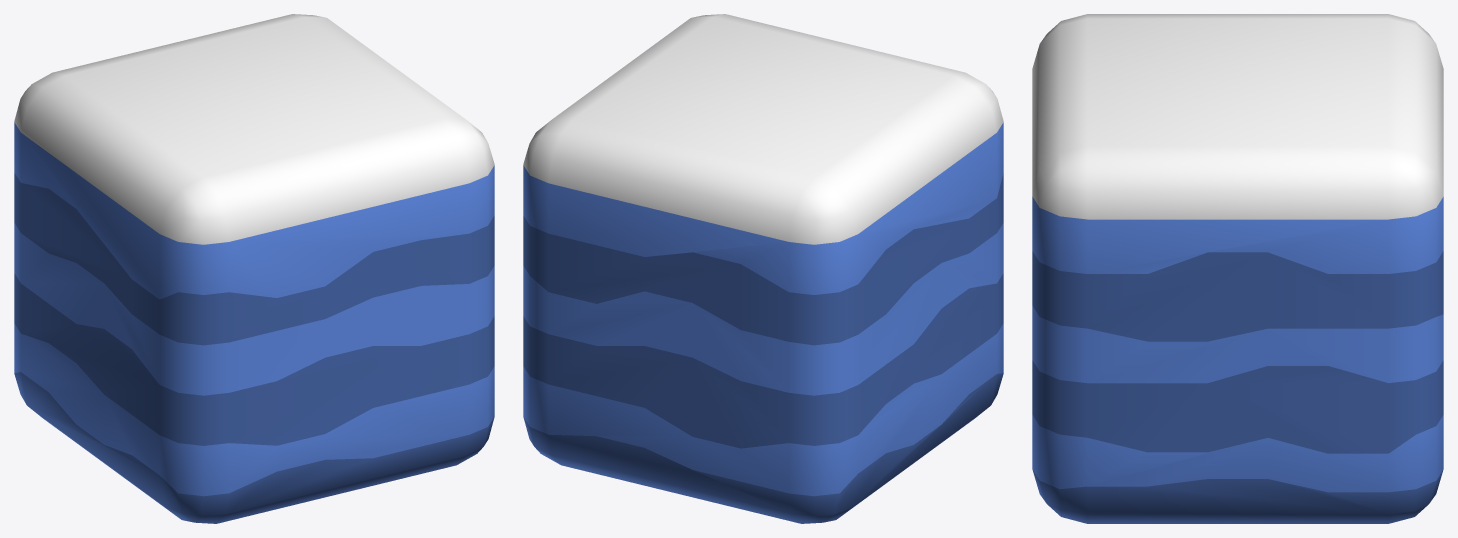
File: Stone013.fbx
3 renders of one model, left to right at view 1: azimuth 30°, elevation 25°; view 2: azimuth 150°, elevation 25°; view 3: azimuth 270°, elevation 25°, orthographic. The views are drawn at different scales.
Visible parts, largest first — view 1: Stone013; view 2: Stone013; view 3: Stone013.
Part boxes in pixels (x1,y1,x2,y2): Stone013: (14, 14, 494, 523); Stone013: (523, 14, 1003, 523); Stone013: (1032, 14, 1443, 523).
Bounding box in the file's own units: 156 × 156 × 156.
